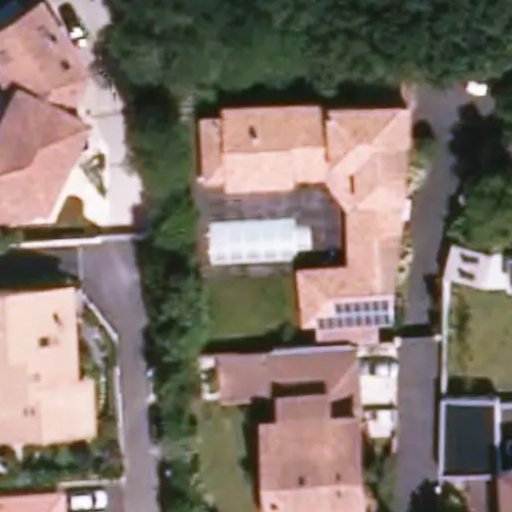pool: (213, 223, 298, 260)
